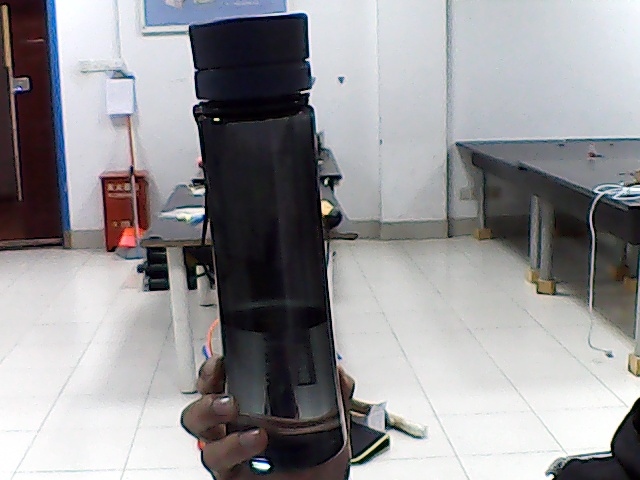cup: (213, 35, 308, 301)
